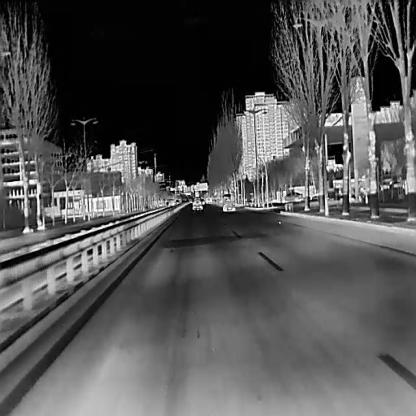car: (282, 191, 303, 203), (191, 196, 202, 210)
truck: (222, 193, 235, 211)
